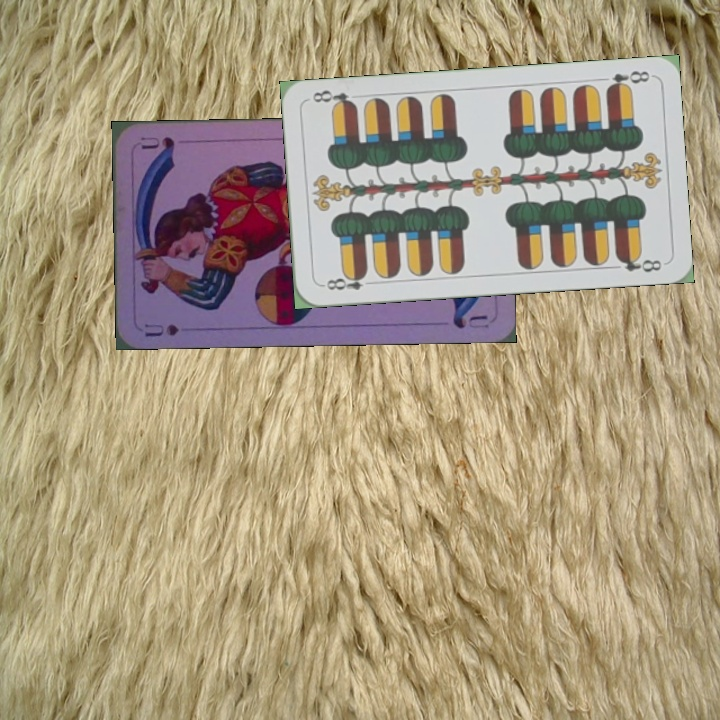E8: (318, 269, 377, 293), (602, 66, 652, 93)
SU: (140, 319, 181, 340)
